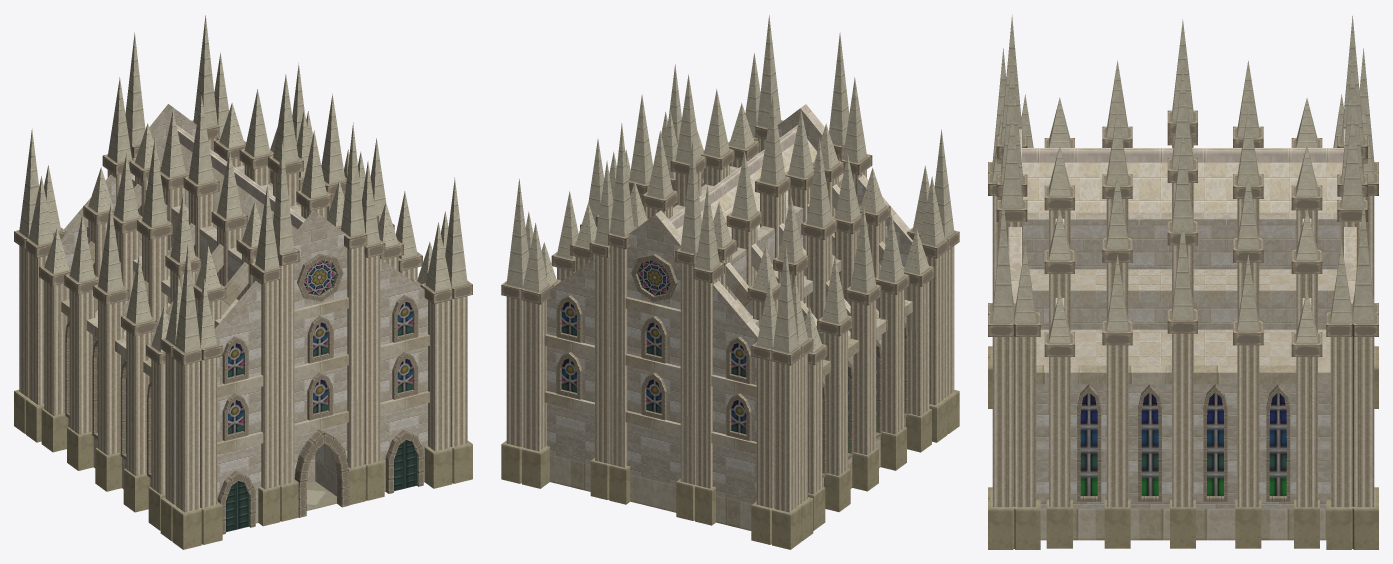
The model's file is Cathedral.fbx.
The picture shows the model from 3 angles, left to right: view 1: azimuth 30°, elevation 25°; view 2: azimuth 150°, elevation 25°; view 3: azimuth 270°, elevation 25°; orthographic projection. The views are drawn at different scales.
Parts seen in each view (by area): view 1: obj; view 2: obj; view 3: obj.
Boxes of the visible parts, box(x1,y1,x2,y2) form: obj: box(14, 15, 472, 549); obj: box(501, 15, 959, 549); obj: box(988, 15, 1378, 549).
Size of the model in its own units: 7.09 by 8.82 by 7.18.
